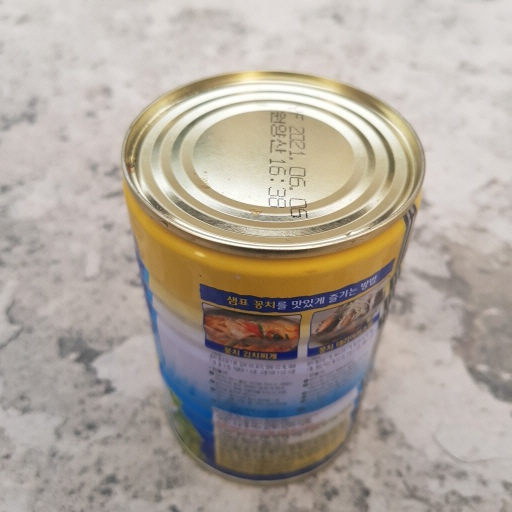Metal_1: (122, 68, 428, 484)
